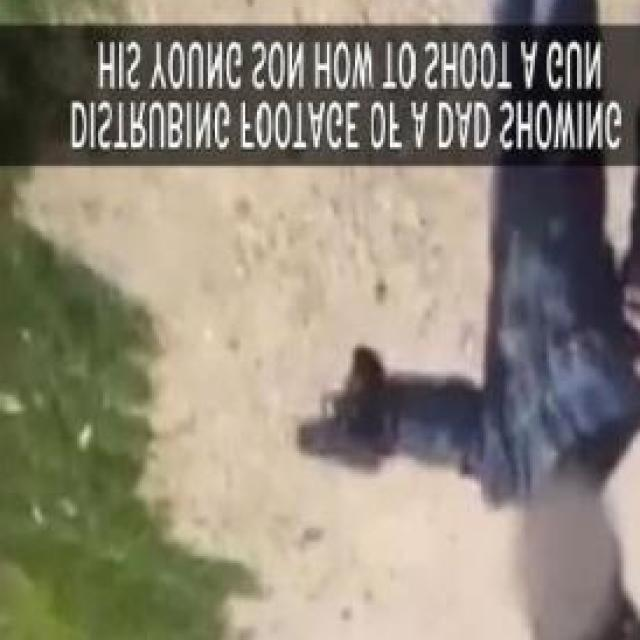pistol: (296, 346, 386, 474)
